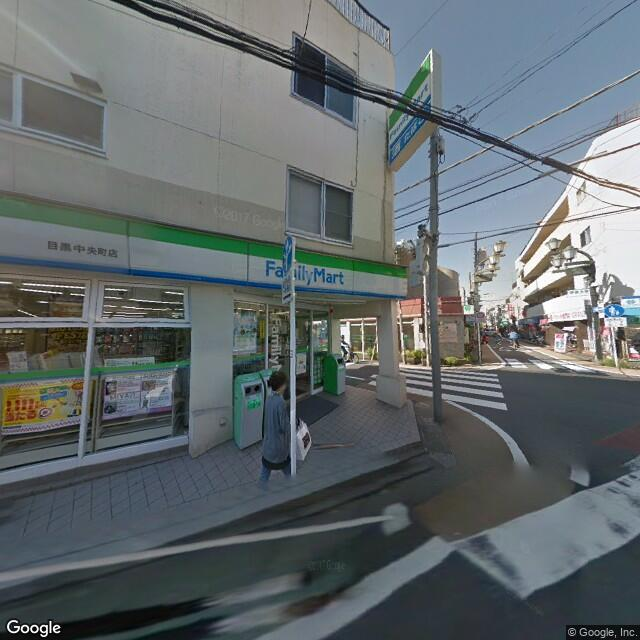family_mart: (1, 195, 409, 303), (389, 46, 435, 159)
